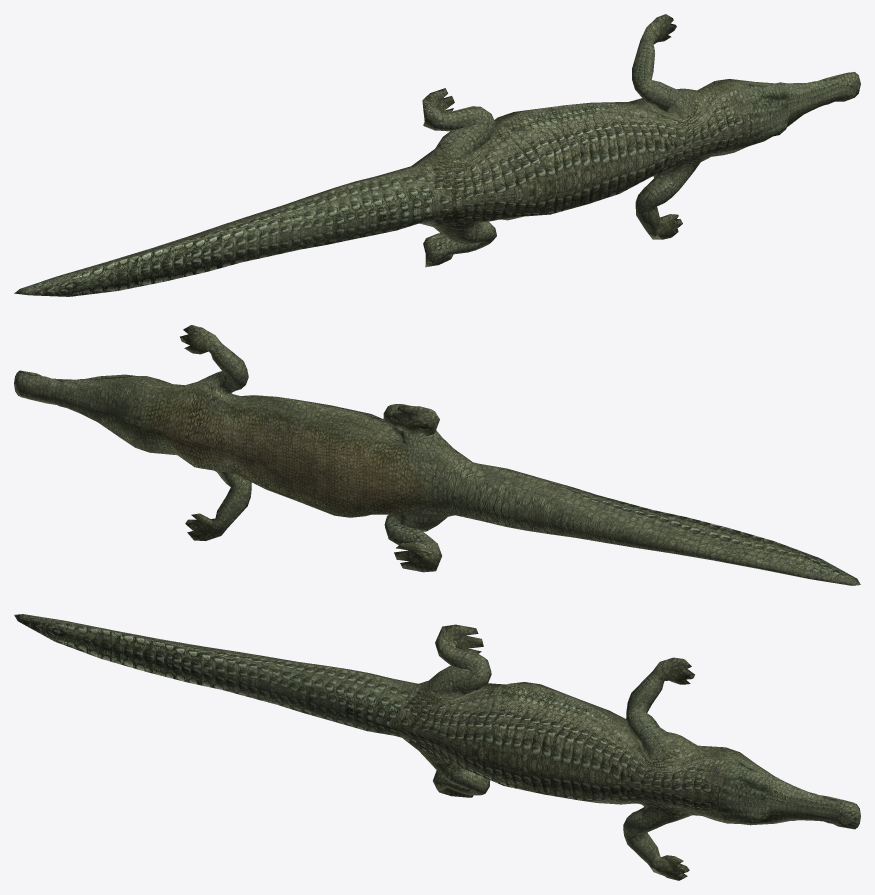
File: alligator_000160.obj
The picture shows the model from 3 angles, top to bottom: view 1: azimuth 30°, elevation 25°; view 2: azimuth 150°, elevation 25°; view 3: azimuth 330°, elevation 25°; orthographic projection.
Visible parts, largest first — view 1: mesh1.002_mesh1-geometry; view 2: mesh1.002_mesh1-geometry; view 3: mesh1.002_mesh1-geometry.
Part boxes in pixels (<box>): mesh1.002_mesh1-geometry: <box>14,14,860,296</box>; mesh1.002_mesh1-geometry: <box>14,325,860,585</box>; mesh1.002_mesh1-geometry: <box>14,614,860,880</box>.
Bounding box in the file's own units: 18.4 × 4.55 × 1.81.
